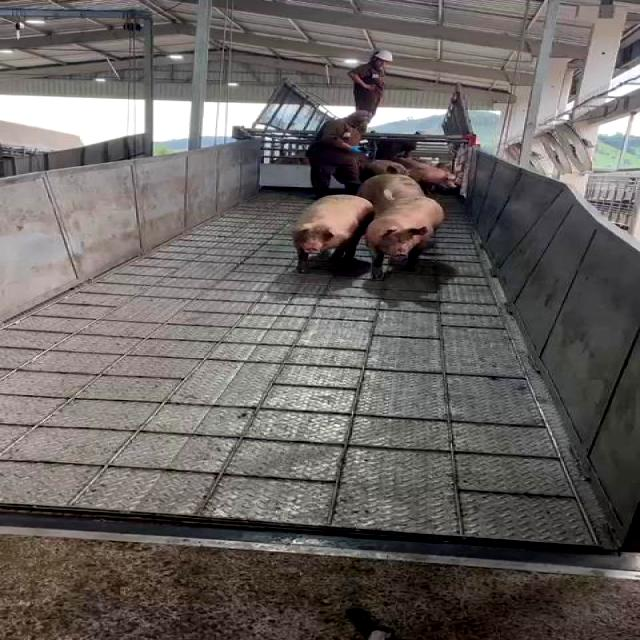pig: (367, 196, 445, 279), (293, 195, 374, 271), (358, 175, 424, 213)
